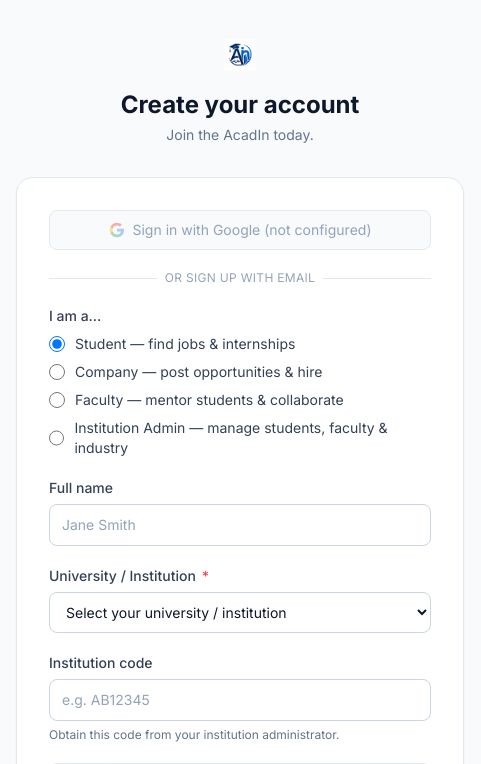
Test case: Register — institution must be chosen explicitly › FACULTY without a chosen institution is blocked with a field error
This screenshot has width=481, height=764.
Click the radio button labelled "Faculty — mentor students & collaborate": [57, 400] box [49,392,65,408]
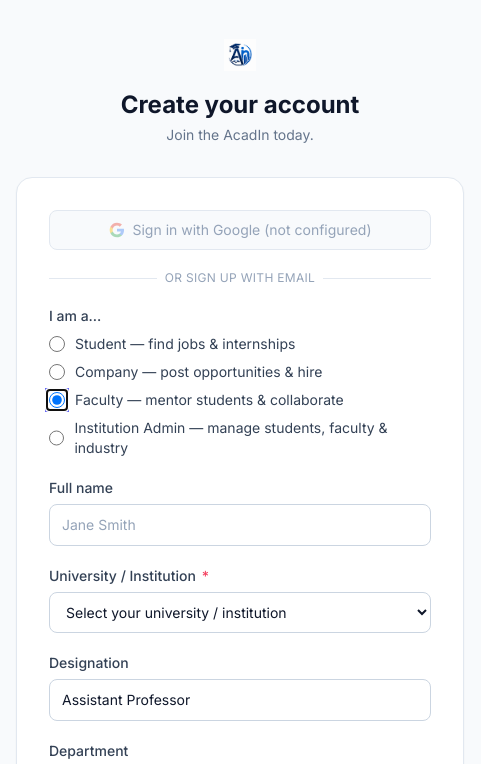
In the field labelled "Full name": [240, 525] box [49,504,431,546], type "Dr. Faculty"
(page scrolled)
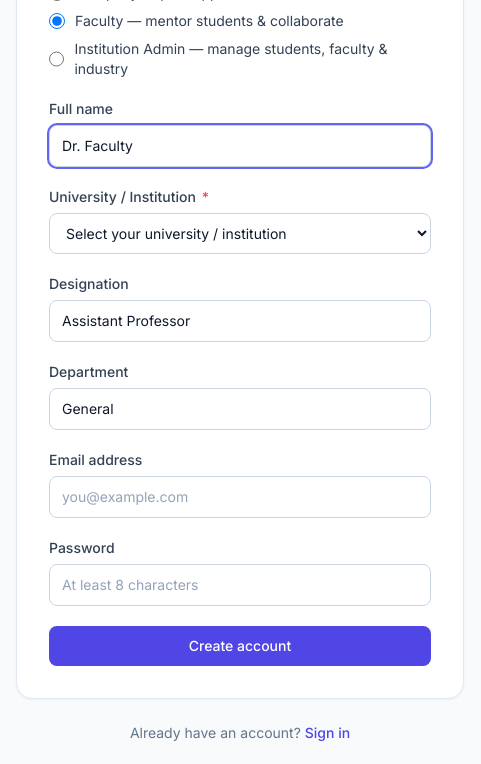
In the field labelled "Email address": [240, 497] box [49,476,431,518], type "faculty@uni.test"
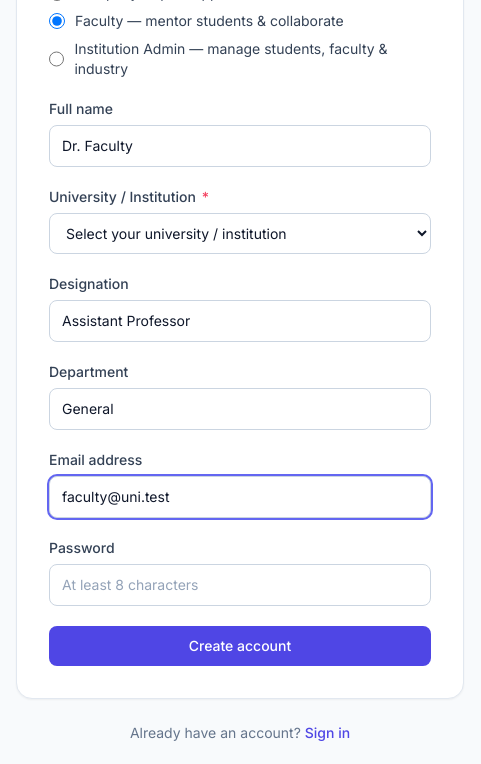
In the password field labelled "Password": [240, 585] box [49,564,431,606], type "Password1!"
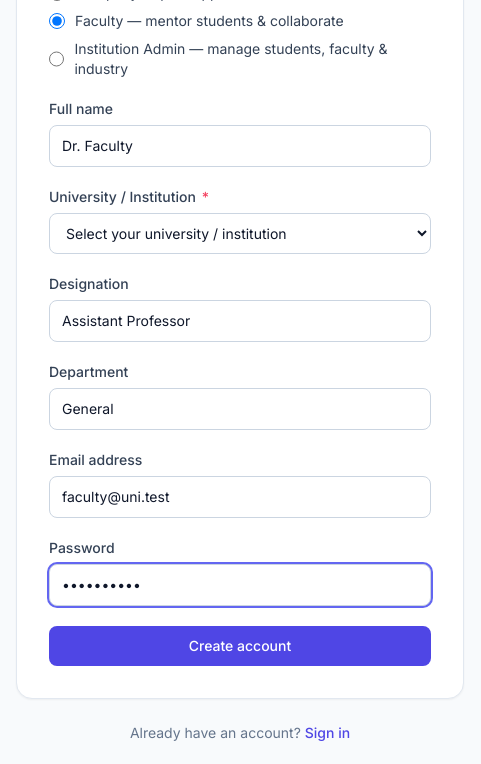
Expected: the dropdown labelled "University / Institution *" shows "Select your university / institution", [49,213,431,254]
Click the button "Create account": [240, 646] box [49,626,431,666]
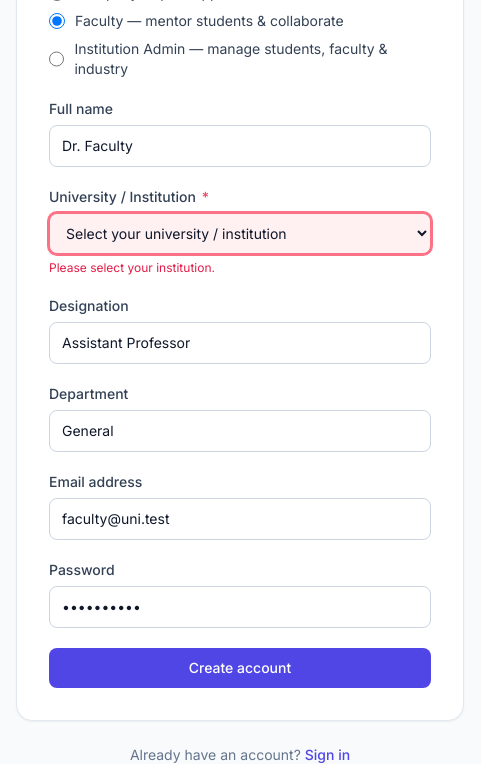
Expected: the text "Please select your institution." is shown, [49,260,215,275]
